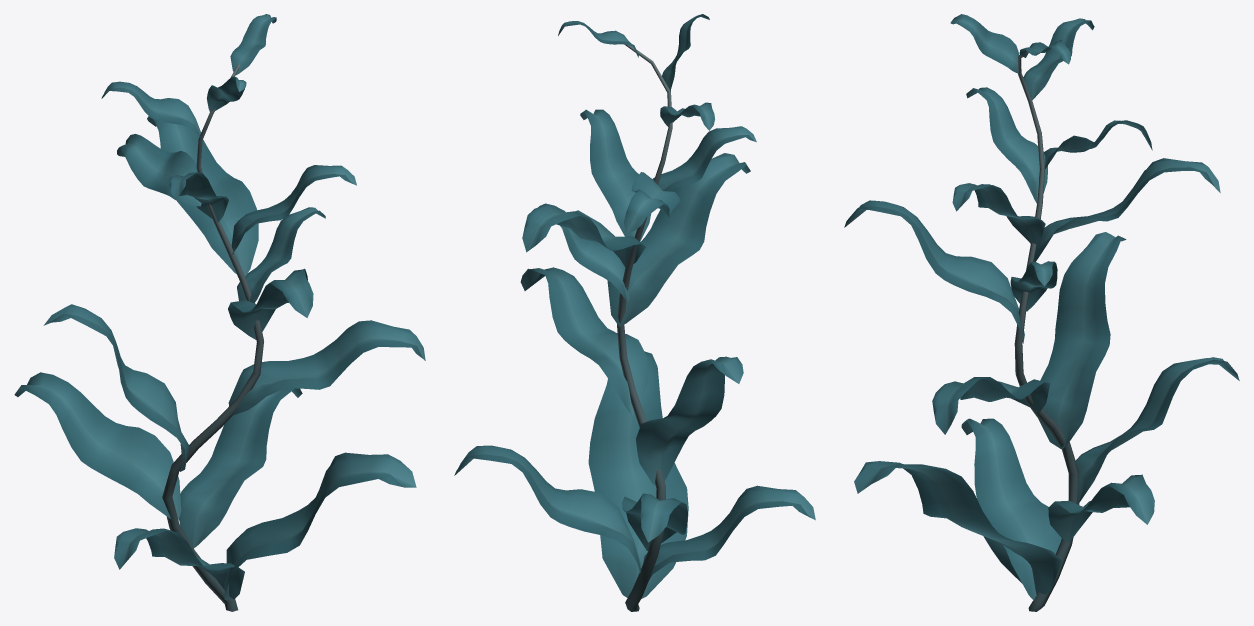
Rendered from OBJ_Ghostweed.fbx.
3 renders of one model, left to right at view 1: azimuth 30°, elevation 25°; view 2: azimuth 150°, elevation 25°; view 3: azimuth 270°, elevation 25°, orthographic. The views are drawn at different scales.
Parts seen in each view (by area): view 1: OBJ_Ghostweed; view 2: OBJ_Ghostweed; view 3: OBJ_Ghostweed.
Boxes of the visible parts, bbox=[...] form: OBJ_Ghostweed: bbox=[14, 14, 425, 611]; OBJ_Ghostweed: bbox=[454, 14, 815, 611]; OBJ_Ghostweed: bbox=[844, 14, 1239, 611].
Size of the model in its own units: 68.45 by 126 by 76.88.
